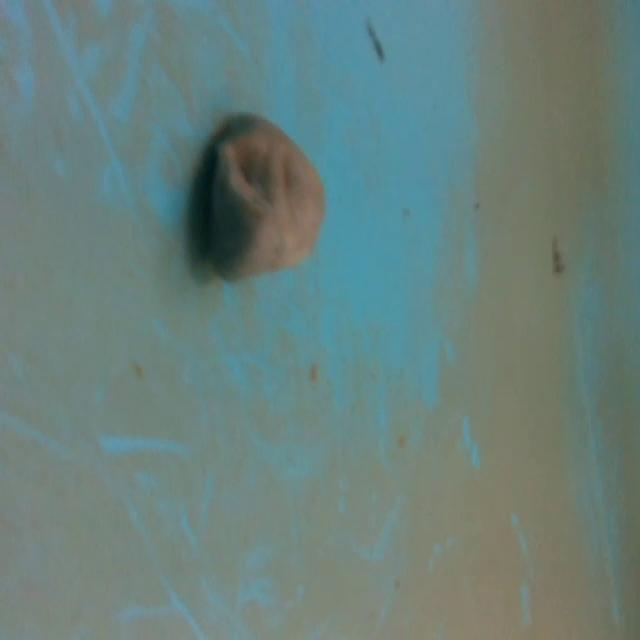rock: (193, 109, 326, 291)
